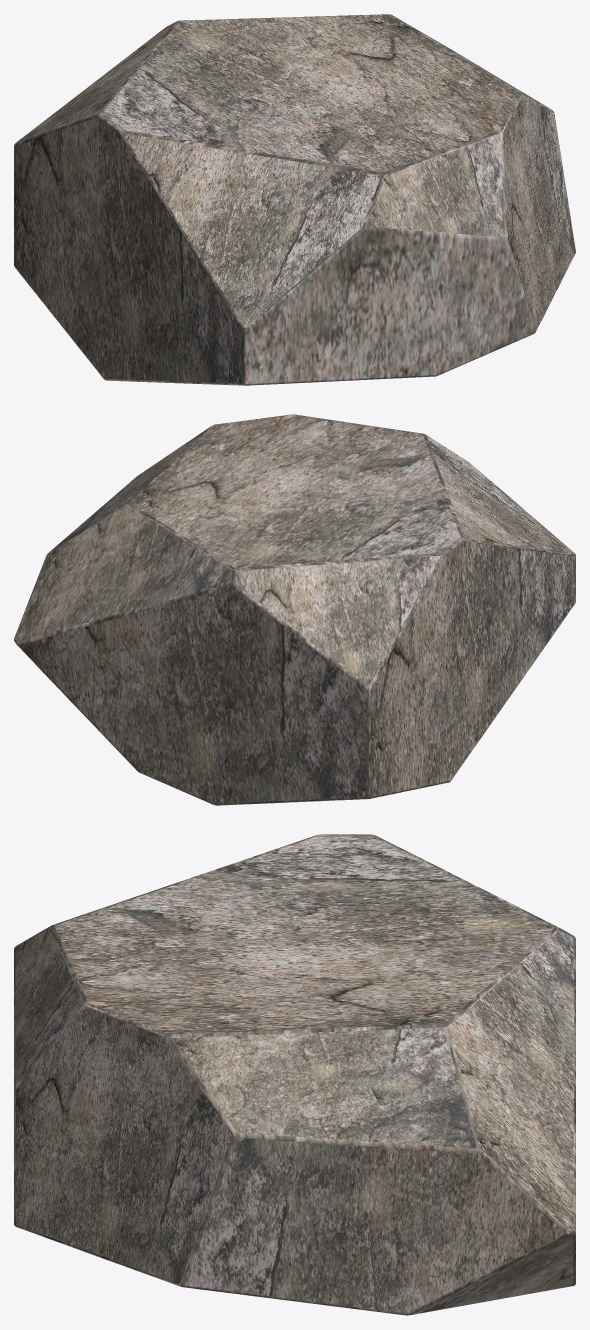
File: Rook_002.fbx
3 renders of one model, top to bottom at view 1: azimuth 30°, elevation 25°; view 2: azimuth 150°, elevation 25°; view 3: azimuth 270°, elevation 25°, orthographic. The views are drawn at different scales.
Visible parts, largest first — view 1: Rook_002; view 2: Rook_002; view 3: Rook_002.
Boxes of the visible parts, x1,y1,x2,y2 form: Rook_002: (14,14,575,385); Rook_002: (14,414,575,805); Rook_002: (14,834,575,1315).
Bounding box in the file's own units: 200 × 128 × 200.
